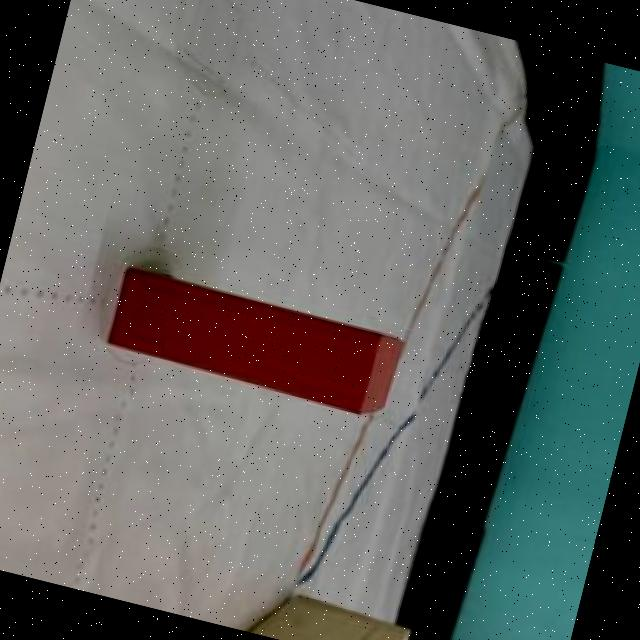redbox: (104, 265, 406, 422)
